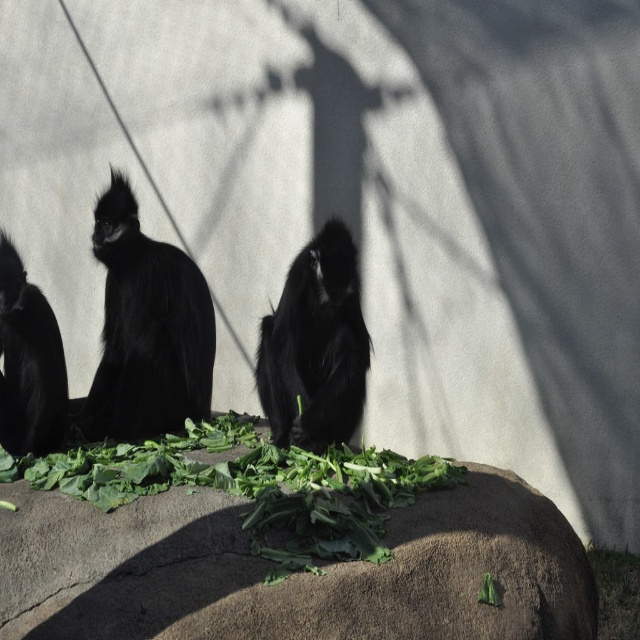Monkey: (74, 163, 214, 446), (257, 213, 369, 464), (0, 224, 76, 463)
